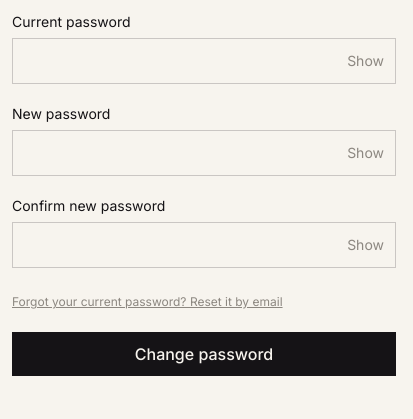
Scenario: PasswordForm › rejects a new password shorter than 8 characters
Type "oldpassword123" into the password field labelled "Current password". click: (204, 61)
box: left=12, top=38, right=396, bottom=84
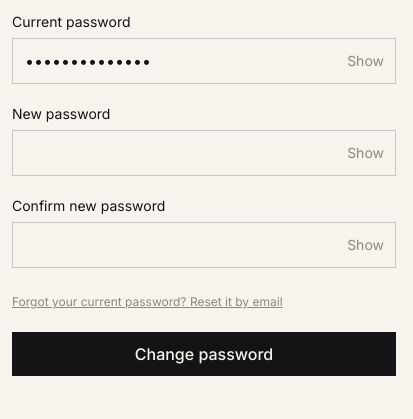
Type "short" into the password field labelled "New password". click: (204, 153)
box: left=12, top=130, right=396, bottom=176
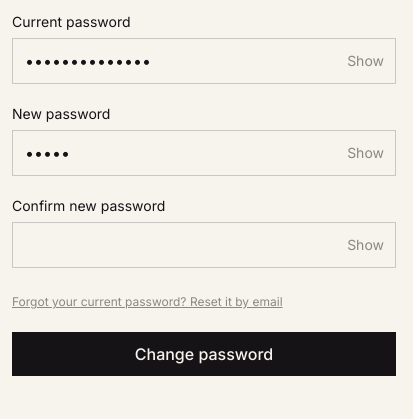
Type "short" into the password field labelled "Confirm new password". click: (204, 245)
box: left=12, top=222, right=396, bottom=268
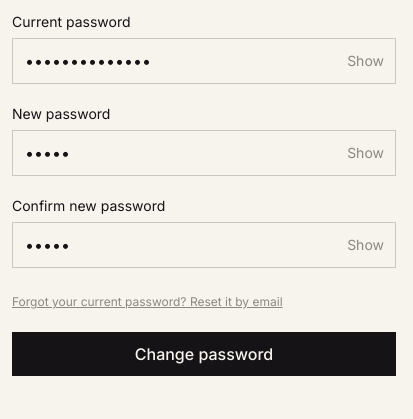
Click the button "Change password". click: click(204, 354)
box: left=12, top=332, right=396, bottom=376
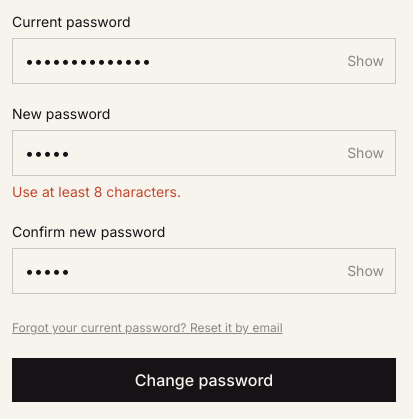
Expected: the text "Use at least 8 characters." is shown, left=12, top=183, right=181, bottom=200
